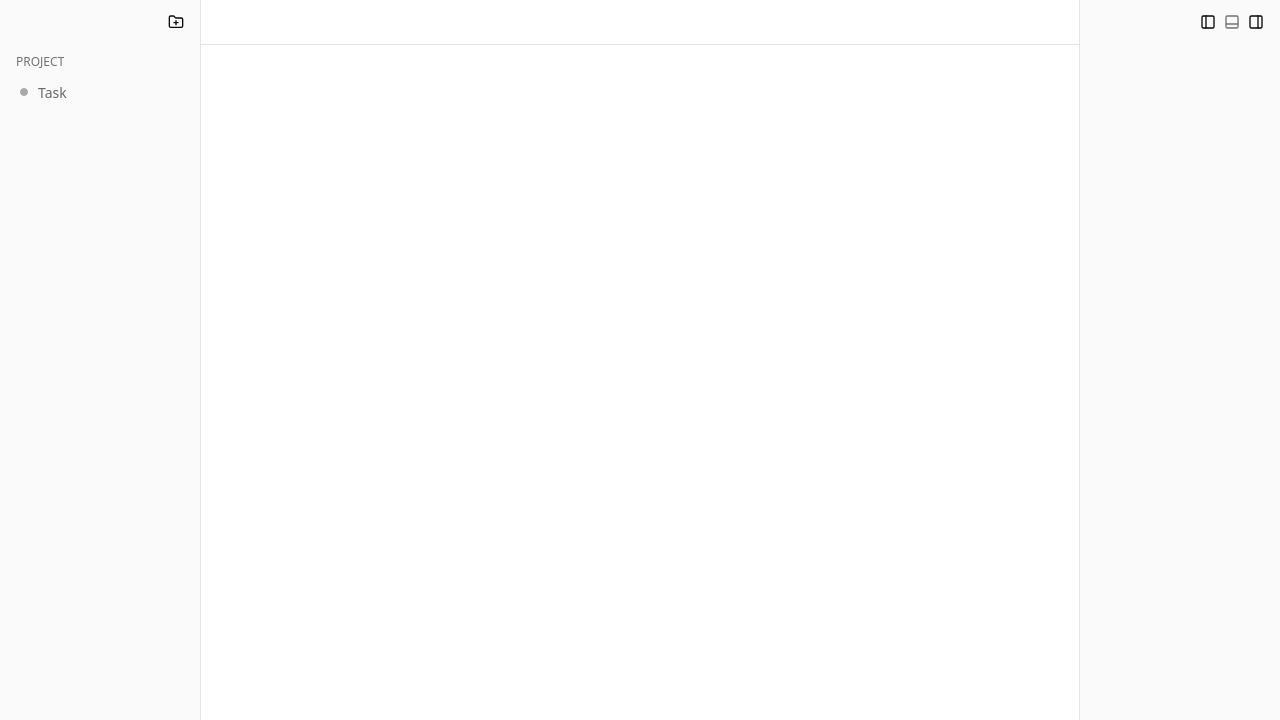
Scenario: The composer › is disabled once the agent has exited
Click the button with class "select" at (100, 92), box [8,76,192,108]
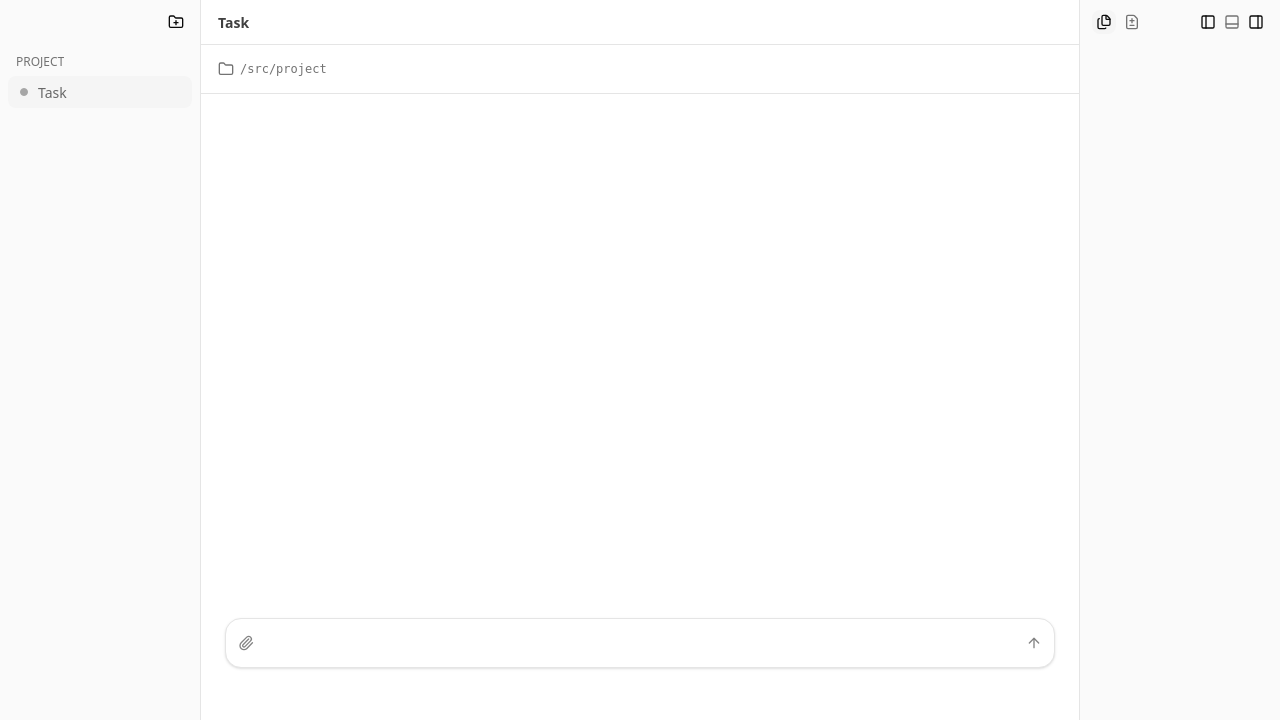
Check: the button named "Attach Files" is disabled, box [234,631,258,655]
